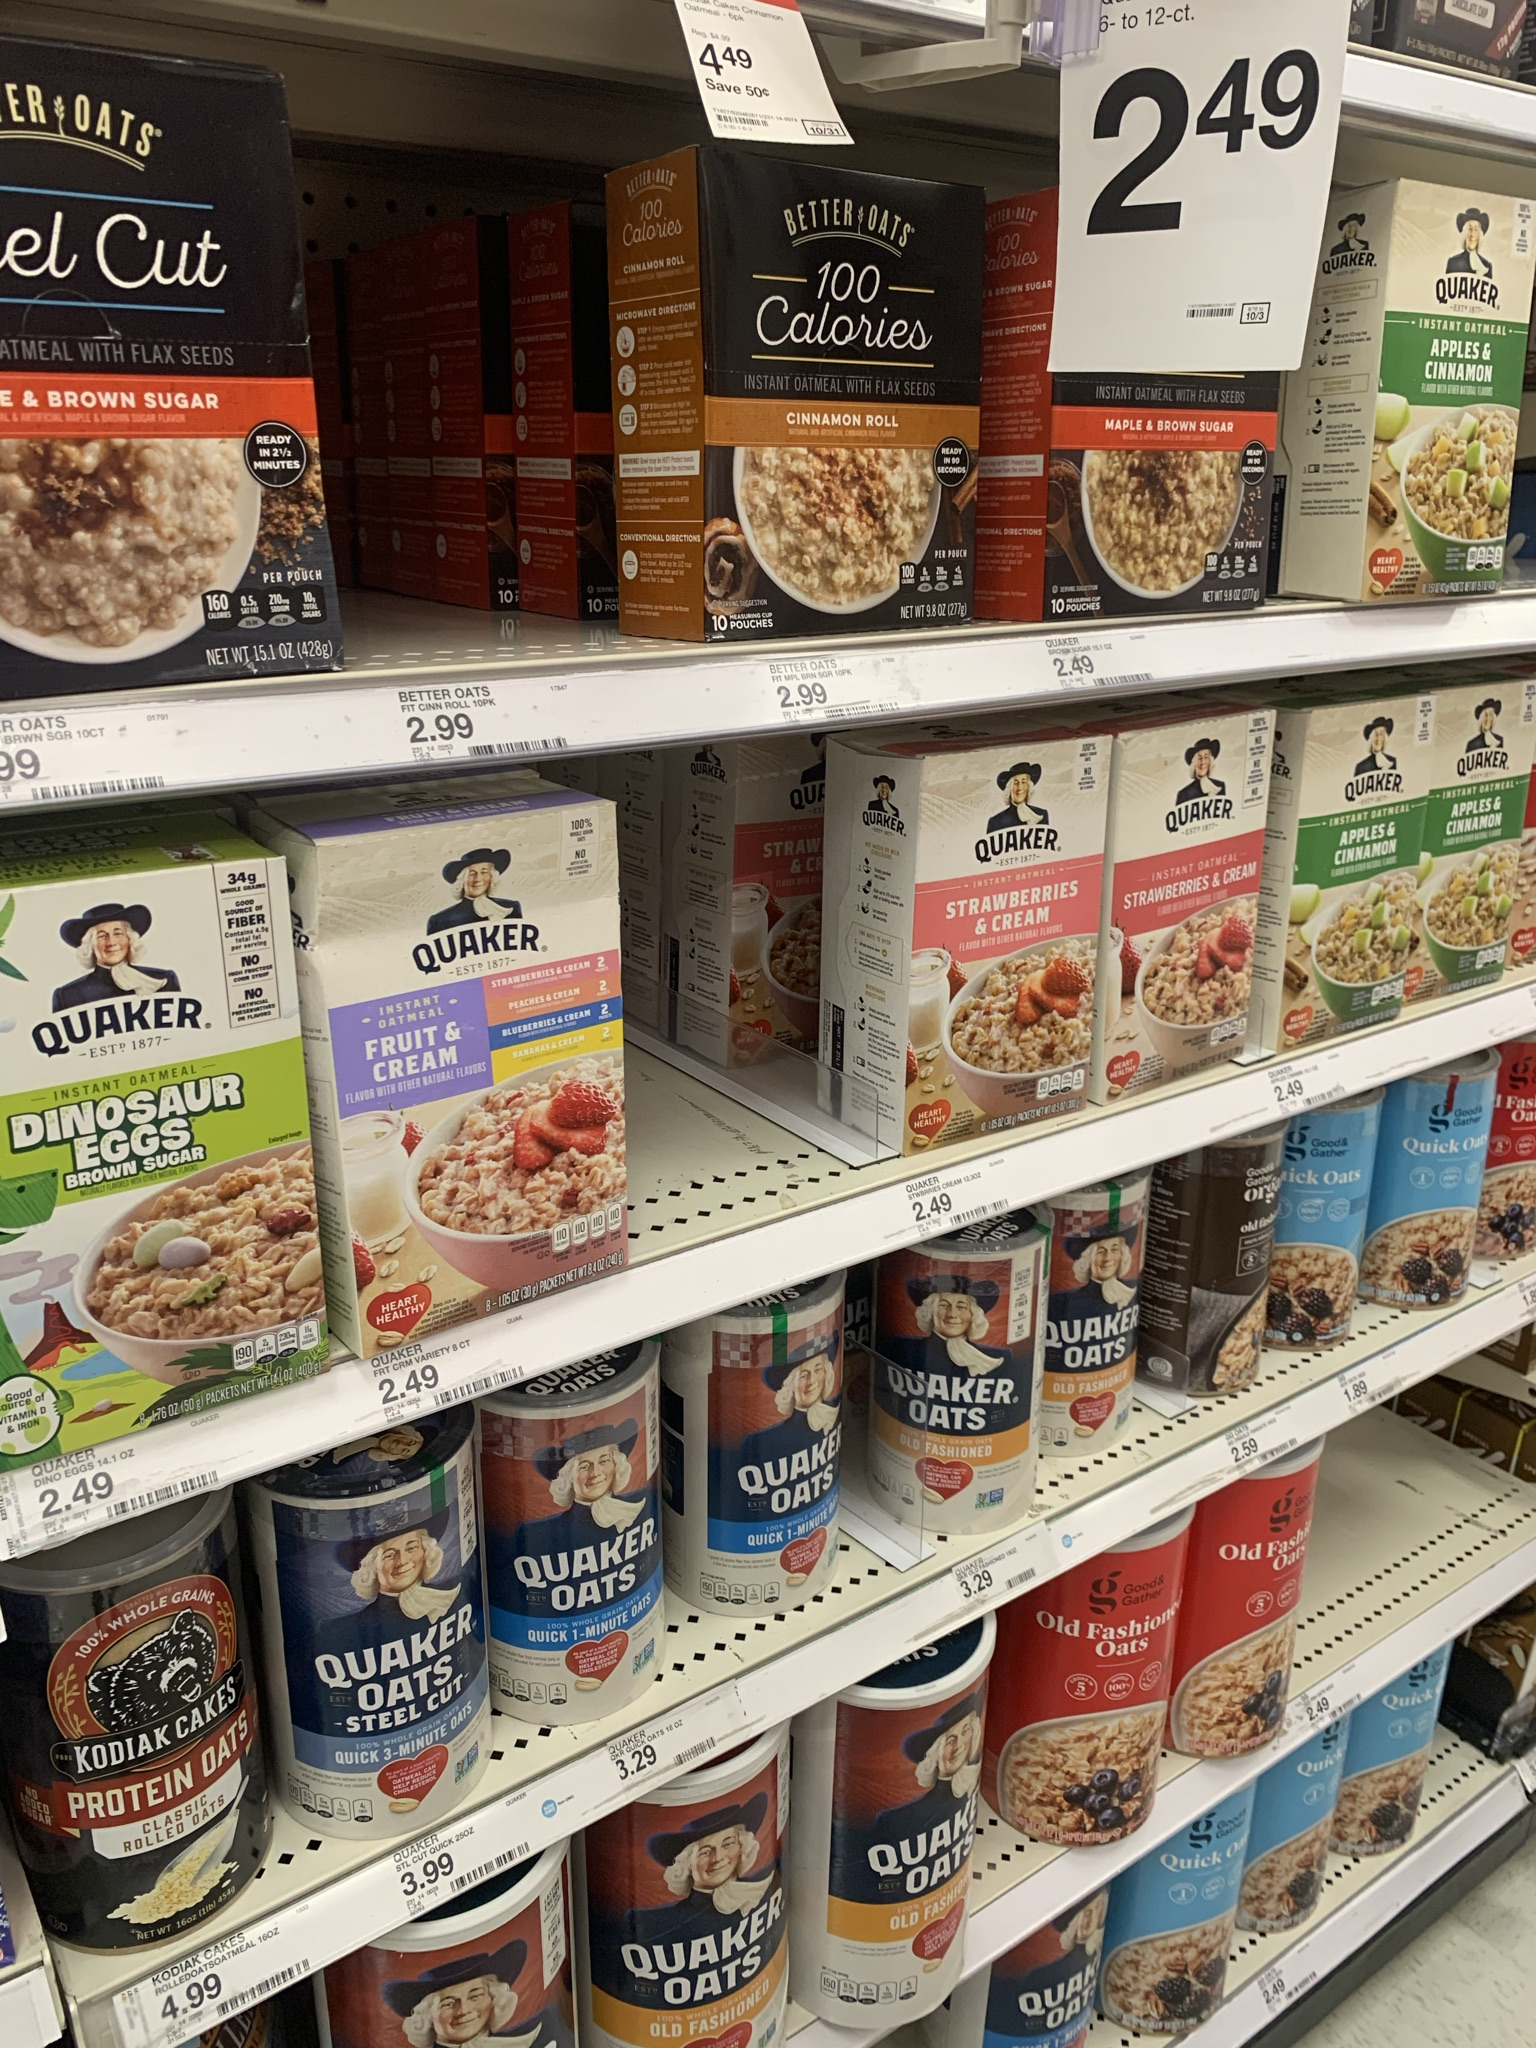box: (2, 82, 263, 660), (2, 880, 278, 1409), (700, 176, 971, 619), (357, 840, 600, 1288), (916, 774, 1091, 1121), (1378, 205, 1502, 585), (1125, 747, 1238, 1072), (1302, 719, 1410, 1021), (1439, 710, 1523, 977)
can: (35, 1580, 260, 1875), (286, 1496, 478, 1796), (507, 1413, 658, 1701), (829, 1716, 971, 2006), (621, 1821, 778, 2048), (712, 1327, 842, 1580), (910, 1264, 1028, 1509), (1055, 1587, 1154, 1837), (1217, 1484, 1296, 1742), (1176, 1161, 1258, 1380), (1400, 1084, 1484, 1298), (1068, 1205, 1136, 1430), (1291, 1121, 1362, 1335), (1163, 1854, 1234, 2016), (1371, 1693, 1430, 1837), (1271, 1767, 1326, 1909)
